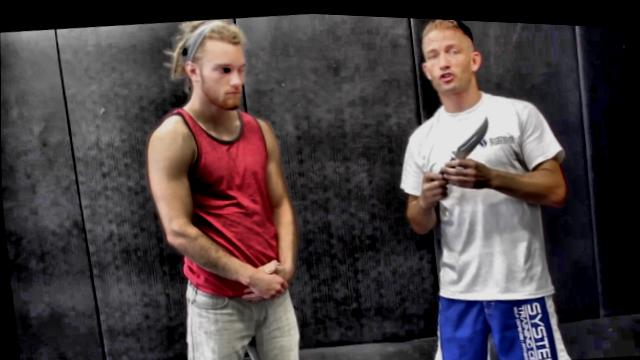knife: (413, 102, 501, 197)
